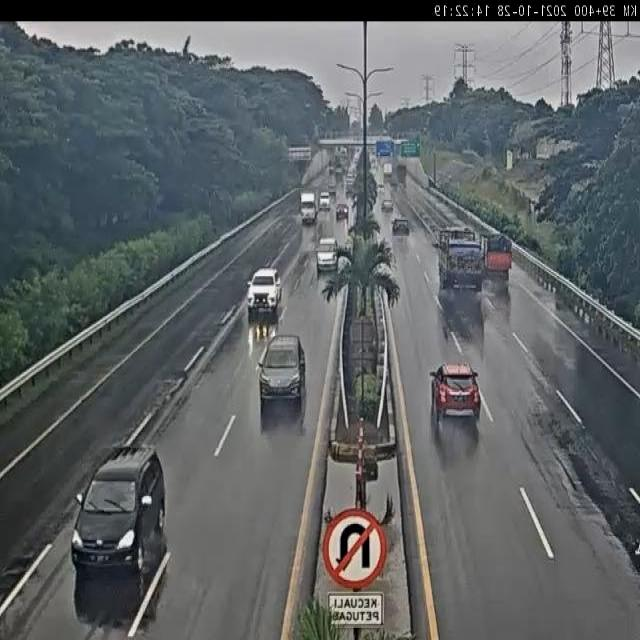Car: (70, 442, 168, 576), (257, 331, 307, 406), (427, 364, 482, 419), (245, 267, 283, 313), (392, 217, 410, 235), (318, 191, 331, 210), (335, 203, 349, 219), (381, 198, 393, 212), (377, 182, 385, 194), (390, 178, 398, 186)
Truck: (432, 225, 486, 291), (477, 230, 514, 276), (300, 192, 317, 225), (396, 163, 408, 184), (327, 174, 338, 196), (344, 173, 355, 195), (382, 162, 392, 182)
Van: (316, 236, 339, 272)
